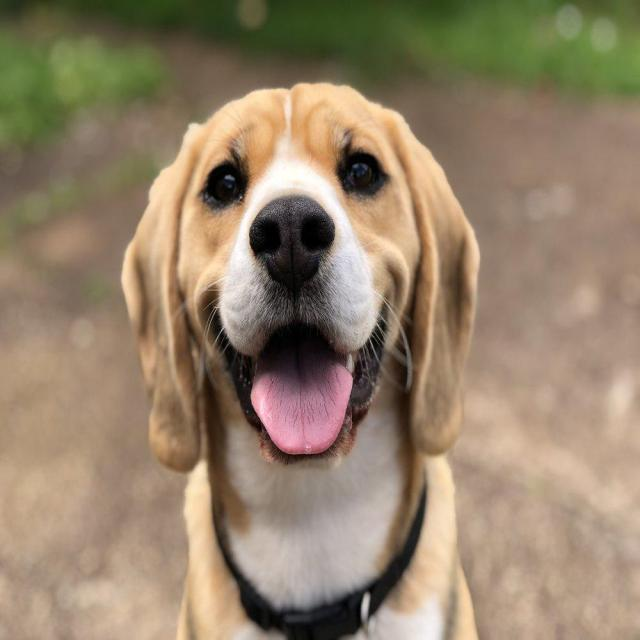Dog: (117, 72, 487, 496)
